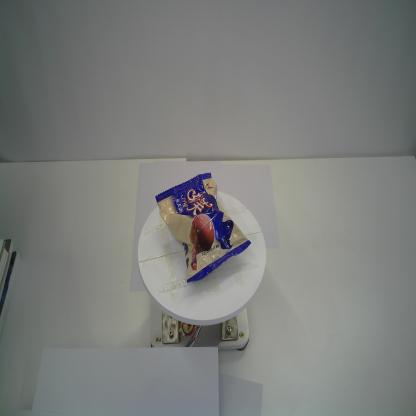Dessert: (154, 171, 252, 282)
